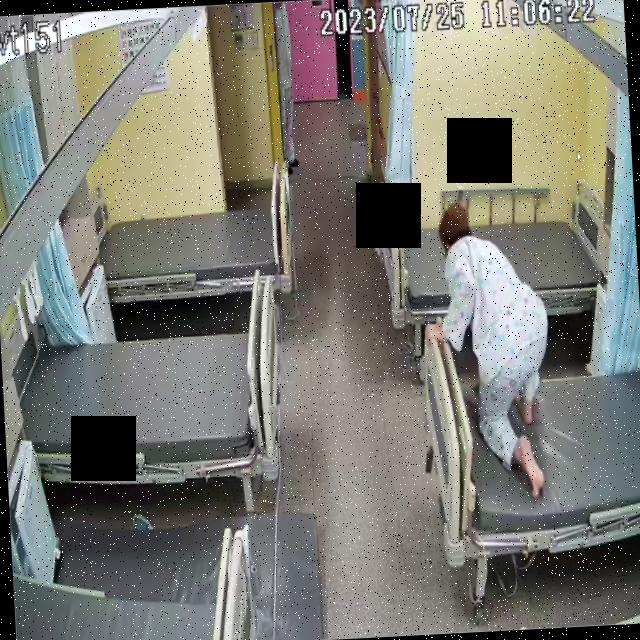bed: (420, 307, 640, 563), (14, 320, 286, 486), (376, 198, 616, 328), (99, 194, 292, 302)
danger: (421, 198, 555, 488)
patient: (421, 200, 558, 498)
